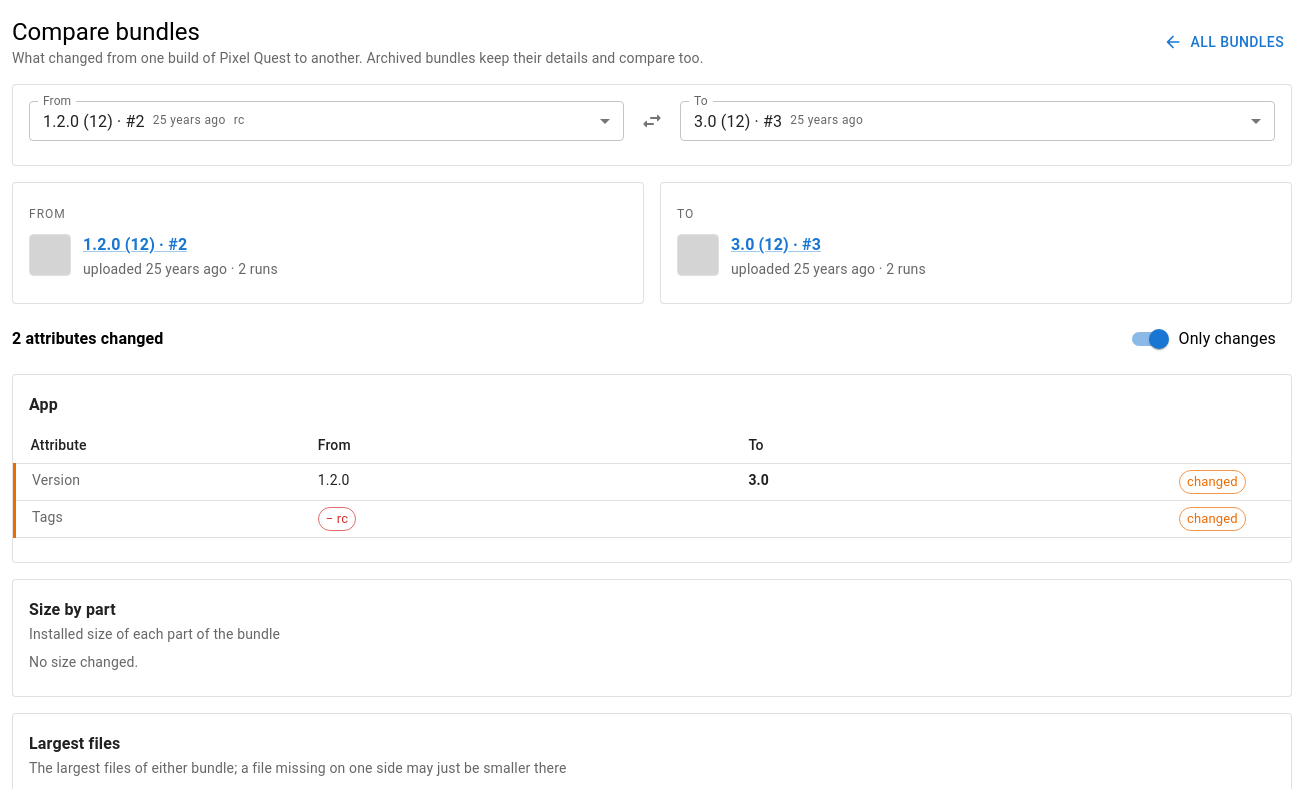
Scenario: picks another bundle for a side
expect the text "2 attributes changed" is shown: met, box x1=12 y1=327 x2=164 y2=351
Click the 1st dropdown. click: (144, 121)
box: x1=43 y1=112 x2=245 y2=130
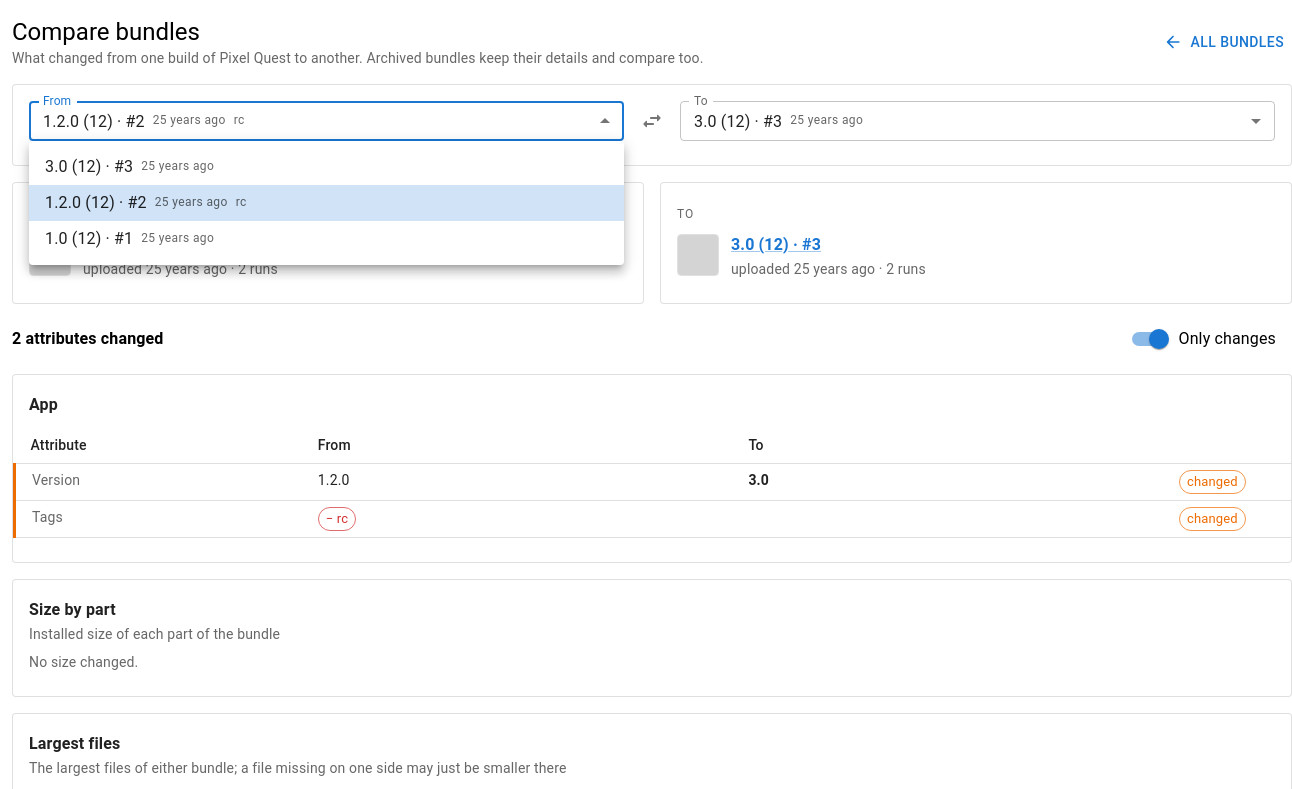
Click the option "#1". click: (130, 238)
box: x1=45 y1=229 x2=214 y2=248
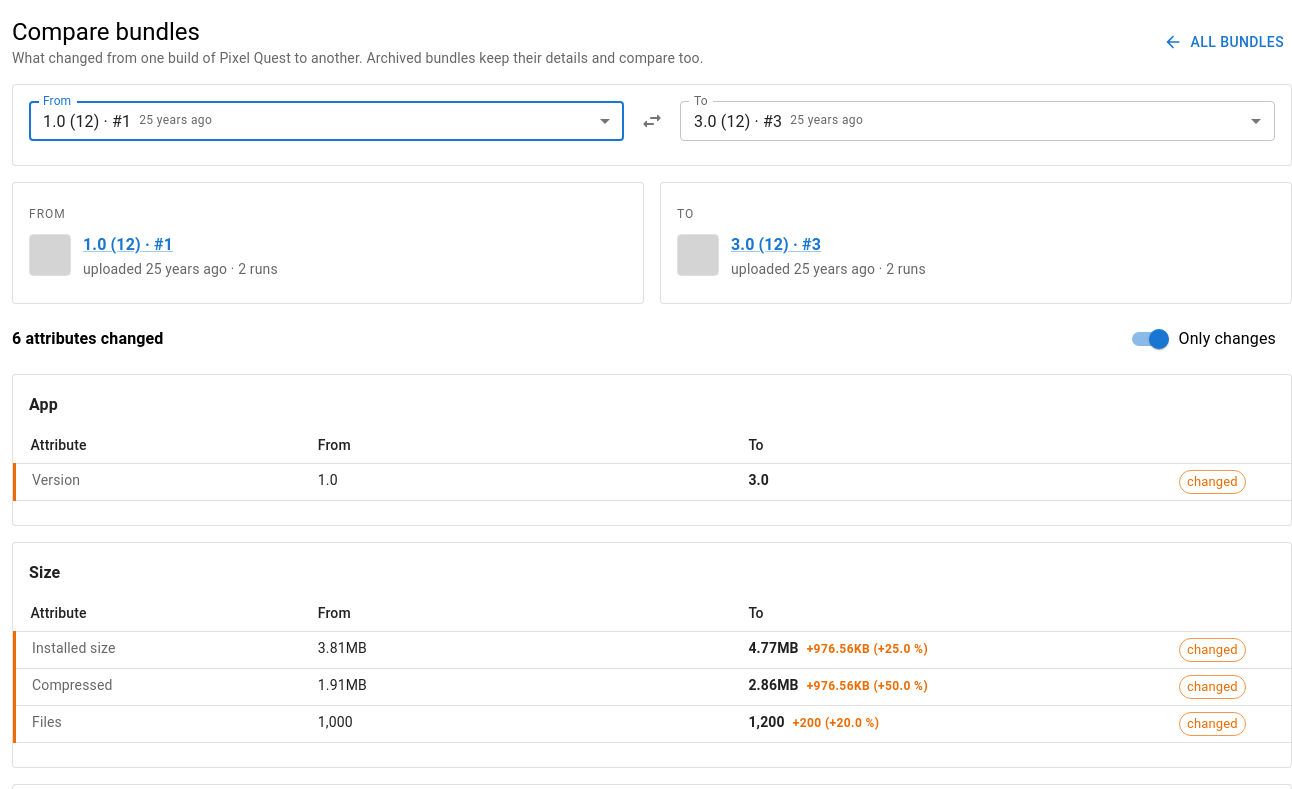
expect the link "3.0 (12) · #3" is shown: met, box x1=731 y1=235 x2=821 y2=254
expect the link "1.0 (12) · #1" is shown: met, box x1=83 y1=235 x2=173 y2=254
